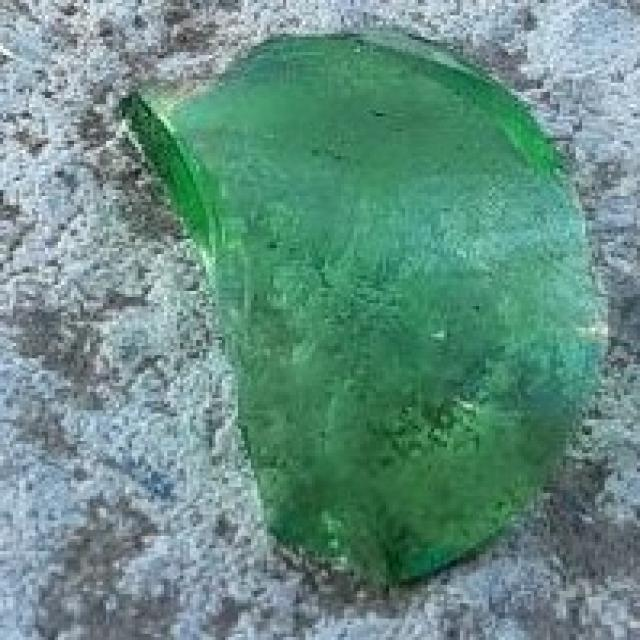Dry: (186, 48, 600, 518), (285, 517, 480, 570), (135, 57, 203, 175)
